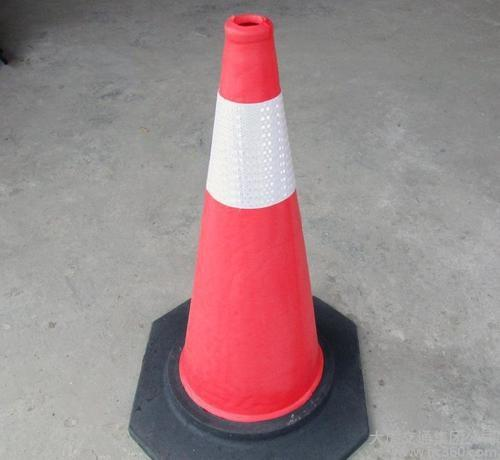cone_barrel: (165, 8, 338, 436)
